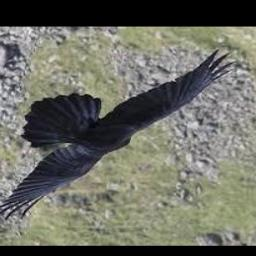Crow: (0, 49, 237, 220)
